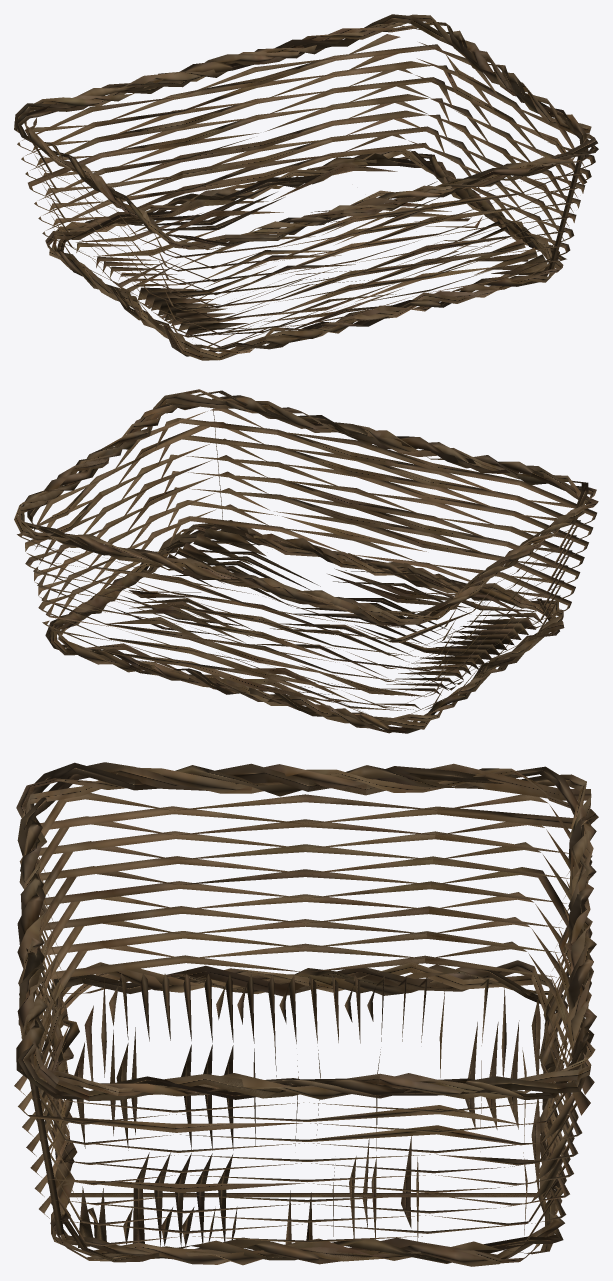
File: wicker_basket_01.glb
3 views of the same model, one above another, from view 1: azimuth 30°, elevation 25°; view 2: azimuth 150°, elevation 25°; view 3: azimuth 270°, elevation 25° (orthographic). The views are drawn at different scales.
Parts seen in each view (by area): view 1: wicker_basket_01; view 2: wicker_basket_01; view 3: wicker_basket_01.
Part boxes in pixels (bbox=[...]): wicker_basket_01: bbox=[14, 14, 598, 360]; wicker_basket_01: bbox=[14, 389, 598, 733]; wicker_basket_01: bbox=[14, 762, 598, 1266].
Bounding box in the file's own units: 0.383 × 0.1174 × 0.2939.
Materials: 1 (1 with a texture image).
